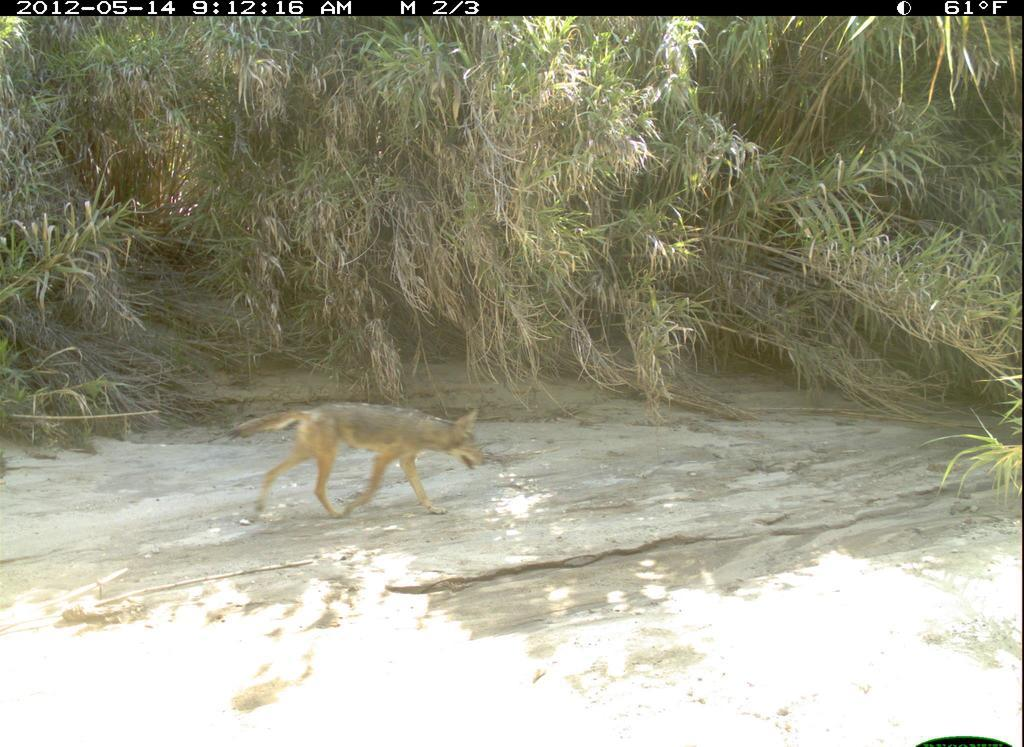coyote: (223, 386, 492, 532)
